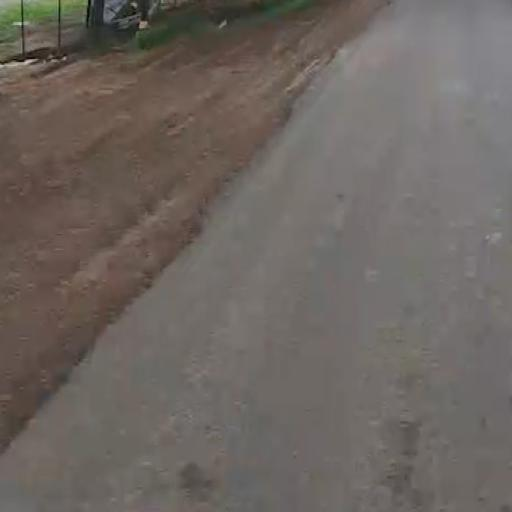edge_damage: (7, 6, 426, 443)
